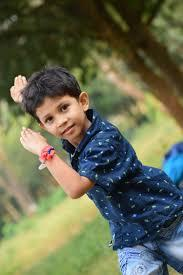Human: (7, 60, 183, 275)
